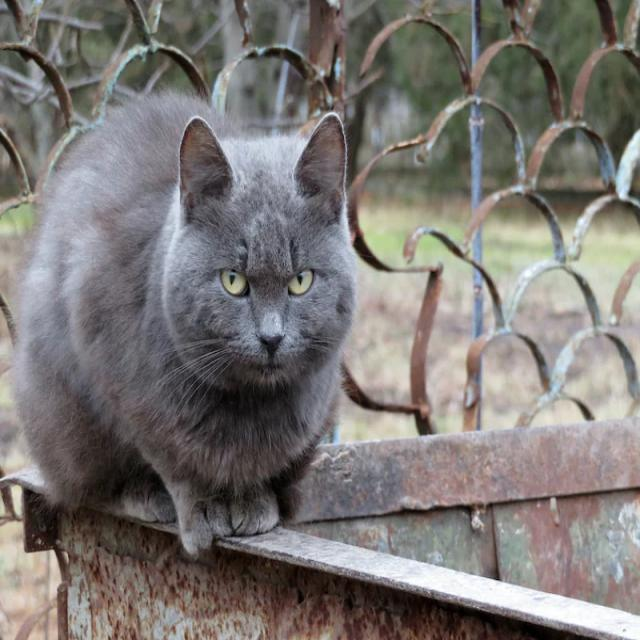cat: (15, 93, 356, 554)
